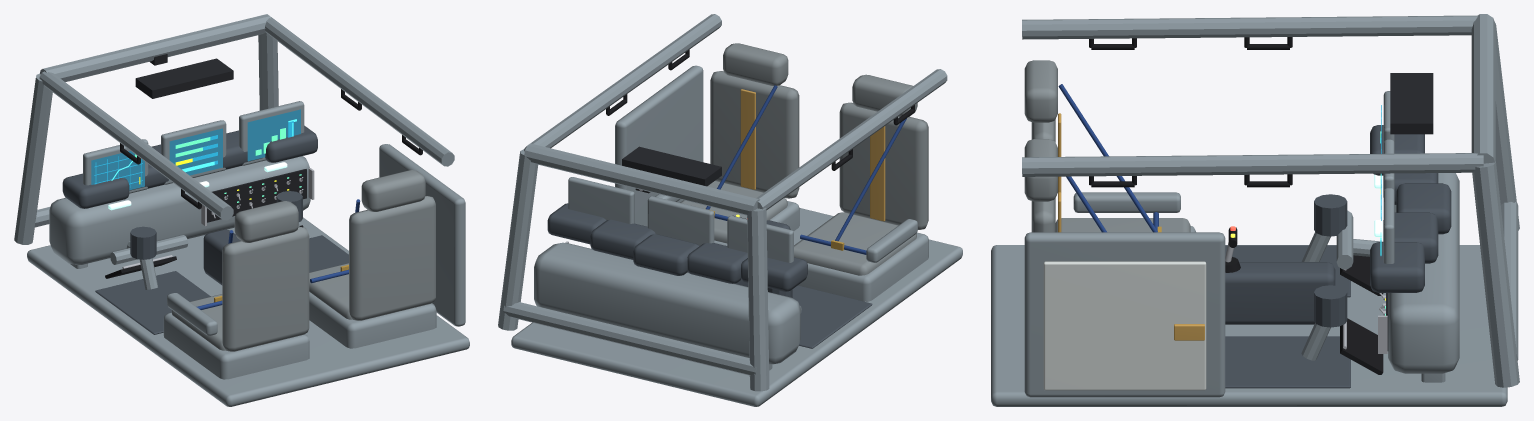
The model's file is improved_cockpit_detailed.glb.
3 views of the same model, side by side, from view 1: azimuth 30°, elevation 25°; view 2: azimuth 150°, elevation 25°; view 3: azimuth 270°, elevation 25° (orthographic). The views are drawn at different scales.
Visible parts, largest first — view 1: CabinFloor, DashboardLower, SeatBack_L, SeatBack_R, HatchFrame, WindshieldTop, SeatFrame_L, RoofRailLeft, RoofRailRight, SeatFrame_R, WindowPillar_L, FloorGripLeft (+22 smaller); view 2: DashboardLower, CabinFloor, SeatBack_R, SeatBack_L, HatchFrame, WindshieldTop, WindshieldLower, RoofRailLeft, SeatCushion_L, RoofRailRight, WindowPillar_L, SeatFrame_L (+20 smaller); view 3: CabinFloor, HatchPanel, HatchFrame, RoofRailRight, RoofRailLeft, DashboardLower, FloorGripRight, CenterConsole, WindowPillar_R, WindshieldTop, OverheadConsole, DashboardArc_4 (+22 smaller).
Boxes of the visible parts, x1=… form: CabinFloor: x1=27, y1=217, x2=469, y2=406; DashboardLower: x1=49, y1=156, x2=310, y2=264; SeatBack_L: x1=222, y1=227, x2=309, y2=351; SeatBack_R: x1=349, y1=196, x2=435, y2=320; HatchFrame: x1=379, y1=144, x2=465, y2=326; WindshieldTop: x1=40, y1=14, x2=270, y2=81; SeatFrame_L: x1=163, y1=312, x2=309, y2=379; RoofRailLeft: x1=39, y1=71, x2=233, y2=220; RoofRailRight: x1=265, y1=16, x2=454, y2=166; SeatFrame_R: x1=309, y1=292, x2=436, y2=348; WindowPillar_L: x1=14, y1=73, x2=52, y2=244; FloorGripLeft: x1=95, y1=271, x2=210, y2=334; DashboardLower: x1=534, y1=242, x2=800, y2=364; CabinFloor: x1=511, y1=208, x2=962, y2=406; SeatBack_R: x1=710, y1=71, x2=799, y2=198; SeatBack_L: x1=839, y1=102, x2=928, y2=229; HatchFrame: x1=615, y1=65, x2=703, y2=226; WindshieldTop: x1=524, y1=143, x2=759, y2=215; WindshieldLower: x1=503, y1=302, x2=756, y2=375; RoofRailLeft: x1=756, y1=69, x2=947, y2=210; SeatCushion_L: x1=794, y1=212, x2=916, y2=275; RoofRailRight: x1=524, y1=14, x2=721, y2=151; WindowPillar_L: x1=747, y1=207, x2=769, y2=391; SeatFrame_L: x1=798, y1=232, x2=928, y2=301; CabinFloor: x1=991, y1=245, x2=1507, y2=406; HatchPanel: x1=1043, y1=261, x2=1206, y2=390; HatchFrame: x1=1024, y1=232, x2=1225, y2=397; RoofRailRight: x1=1022, y1=153, x2=1483, y2=176; RoofRailLeft: x1=1022, y1=15, x2=1477, y2=39; DashboardLower: x1=1388, y1=173, x2=1459, y2=373; FloorGripRight: x1=1225, y1=336, x2=1350, y2=388; CenterConsole: x1=1225, y1=262, x2=1335, y2=324; WindowPillar_R: x1=1472, y1=161, x2=1519, y2=387; WindshieldTop: x1=1471, y1=14, x2=1495, y2=163; OverheadConsole: x1=1390, y1=73, x2=1433, y2=134; DashboardArc_4: x1=1370, y1=242, x2=1424, y2=292.
Bounding box in the file's own units: 1.65 × 1.17 × 2.21.
